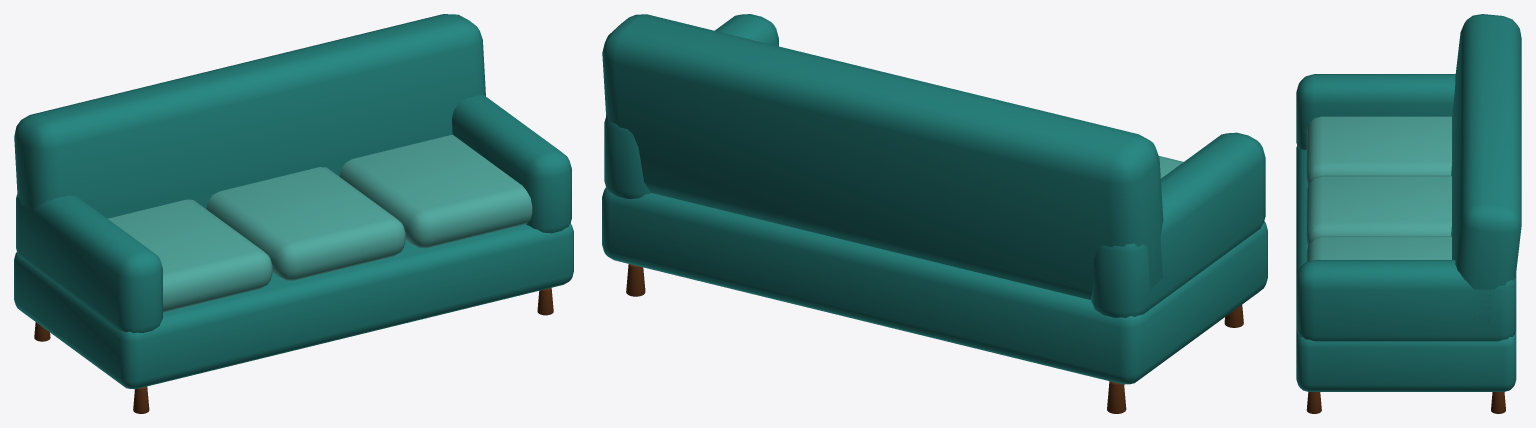
File: sofa.glb
3 views of the same model, side by side, from view 1: azimuth 30°, elevation 25°; view 2: azimuth 150°, elevation 25°; view 3: azimuth 270°, elevation 25° (orthographic). The views are drawn at different scales.
Visible parts, largest first — view 1: sofa; view 2: sofa; view 3: sofa.
Part boxes in pixels (left/top/right/bottom): sofa: left=14, top=14, right=573, bottom=413; sofa: left=602, top=14, right=1267, bottom=413; sofa: left=1296, top=14, right=1521, bottom=413.
Size of the model in its own units: 1.9 by 0.9026 by 0.8802.
